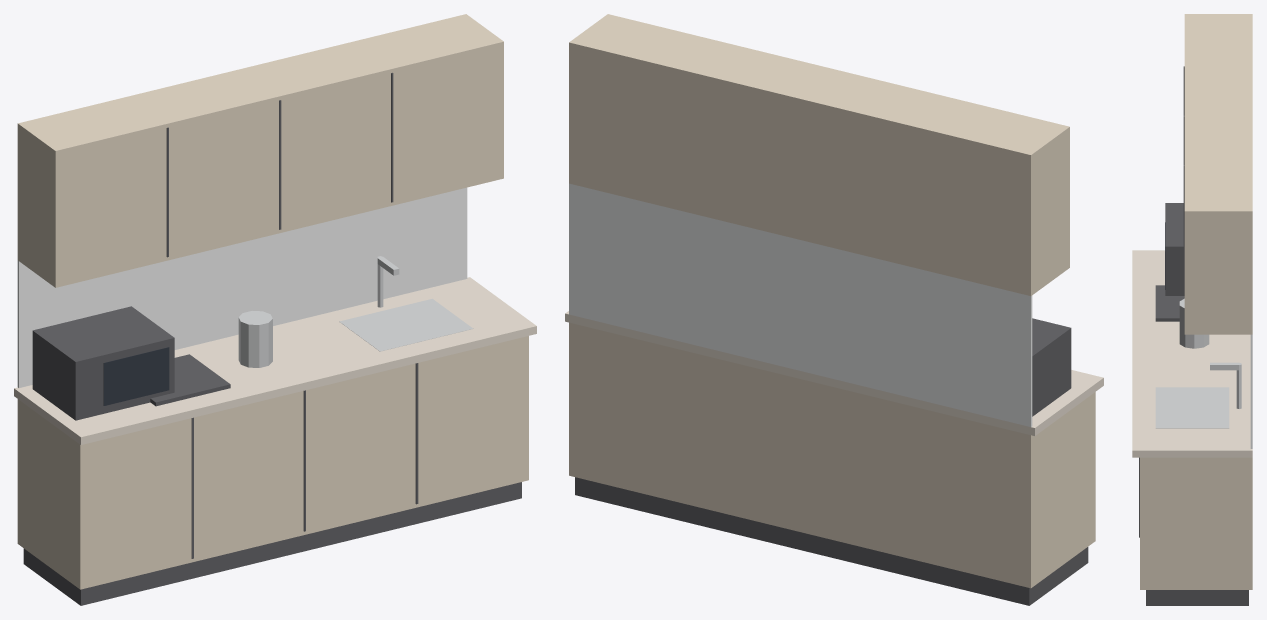
File: Pantry_Counter.fbx
3 renders of one model, left to right at view 1: azimuth 30°, elevation 25°; view 2: azimuth 150°, elevation 25°; view 3: azimuth 270°, elevation 25°, orthographic. The views are drawn at different scales.
Parts seen in each view (by area): view 1: Pantry_Counter; view 2: Pantry_Counter; view 3: Pantry_Counter.
Part boxes in pixels (x1=…): Pantry_Counter: x1=14, y1=14, x2=536, y2=605; Pantry_Counter: x1=565, y1=14, x2=1103, y2=605; Pantry_Counter: x1=1132, y1=14, x2=1252, y2=605.
Bounding box in the file's own units: 2.44 × 2.25 × 0.62.
